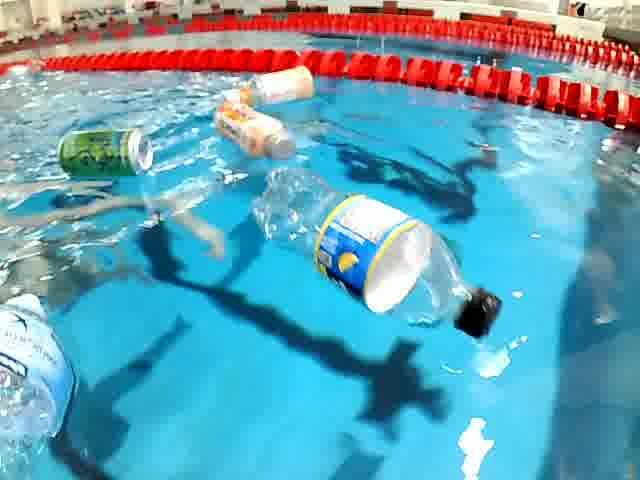Bottle: (248, 165, 512, 345), (0, 287, 85, 480), (214, 103, 304, 163), (220, 62, 318, 110)
Can: (50, 124, 164, 180)
